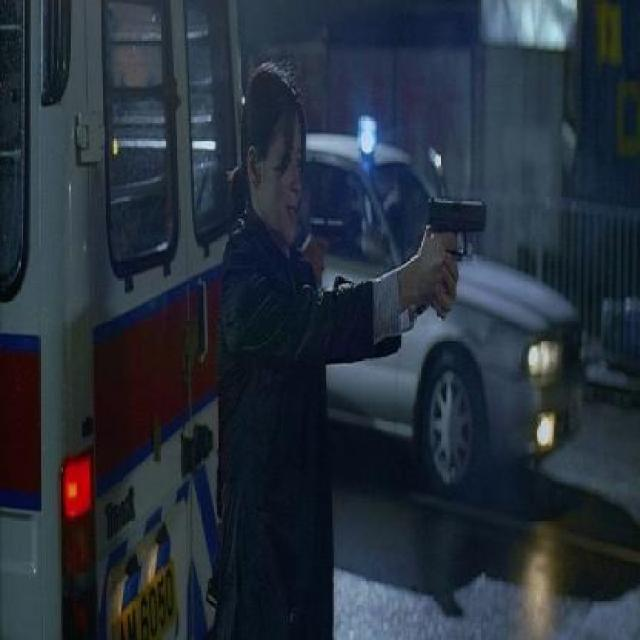gun: (424, 161, 493, 275)
